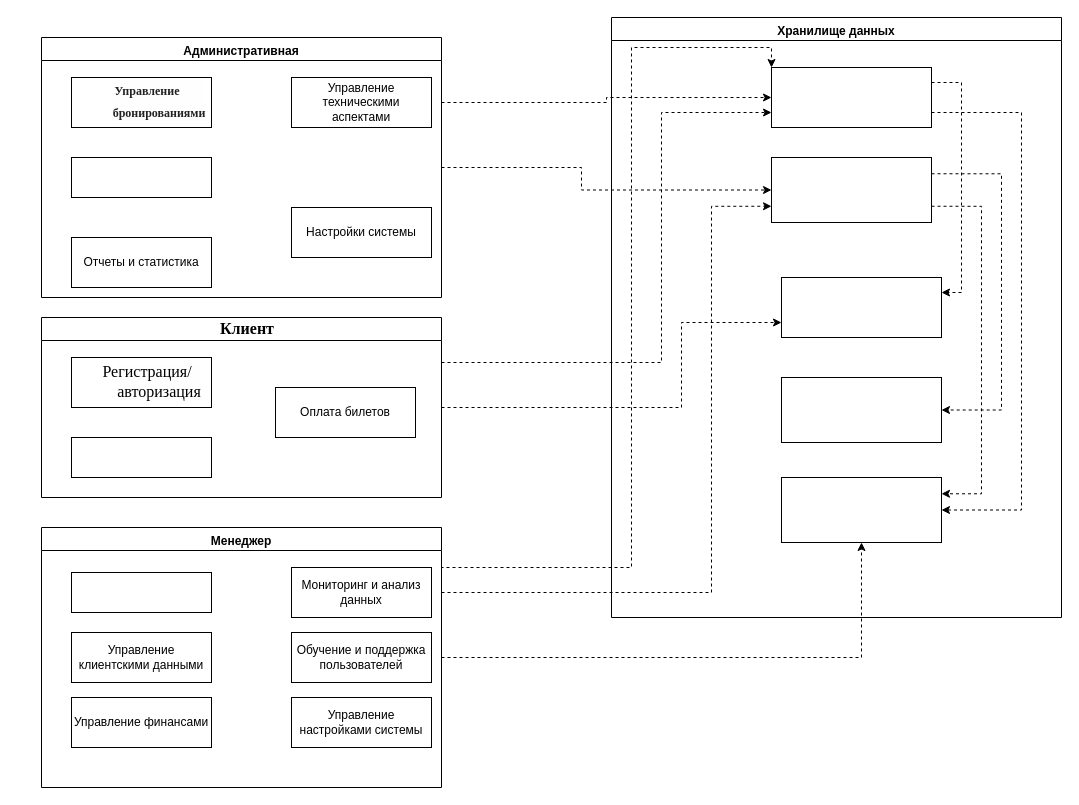
The diagram is 1079 pixels wide and 805 high, and some of its shapes have lost their labels. Here are the shapes that lost their labels. From the top down, the centre of each, then its label:
(851,97): БД" Клиент"
(141,177): Управление рейсами
(851,189): БД"Сотрудники"
(861,307): билеты
(861,409): багажа
(141,457): Поиск и бронирование авиабилетов
(861,509): самолет
(141,592): Управление данными о рейсах и билетах
